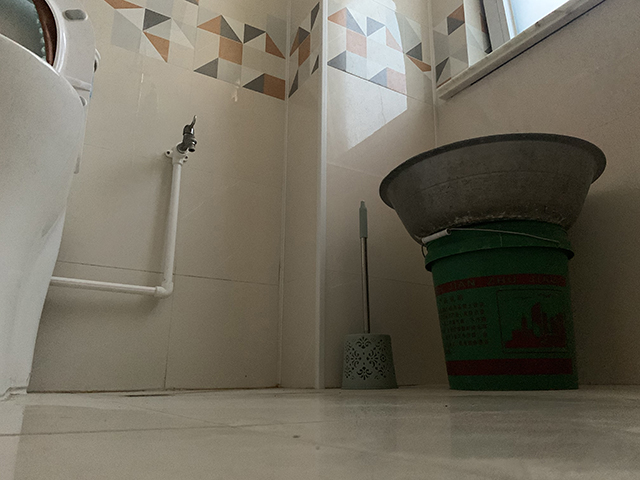closestool: (1, 1, 100, 397)
